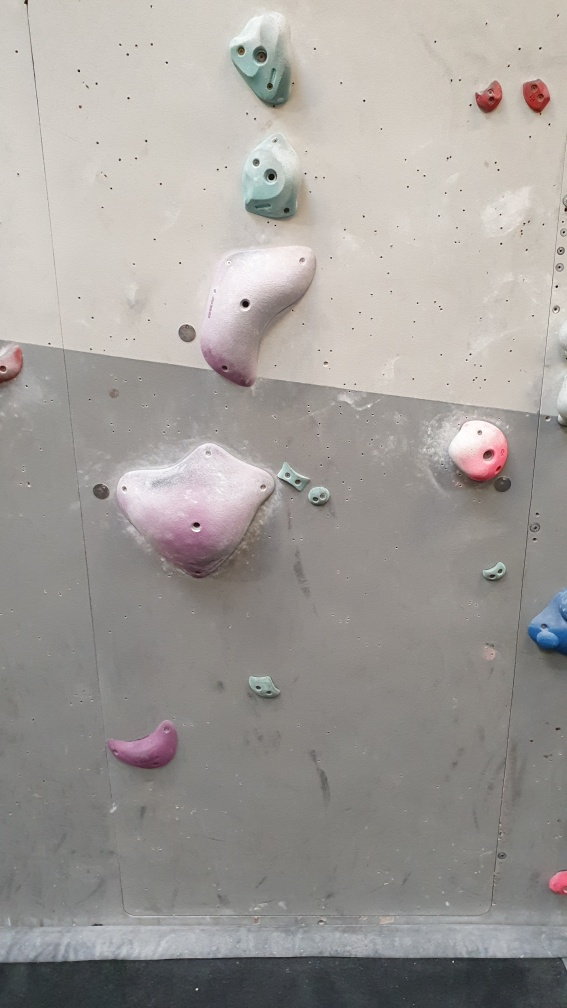Crimp: (467, 78, 504, 116), (525, 75, 550, 114)
Hand Start: (92, 479, 111, 503), (177, 321, 197, 343)
Jug: (231, 10, 294, 111), (239, 130, 304, 227), (448, 414, 513, 482)
Pinch: (275, 461, 314, 495)
Sloper: (521, 585, 567, 650)
